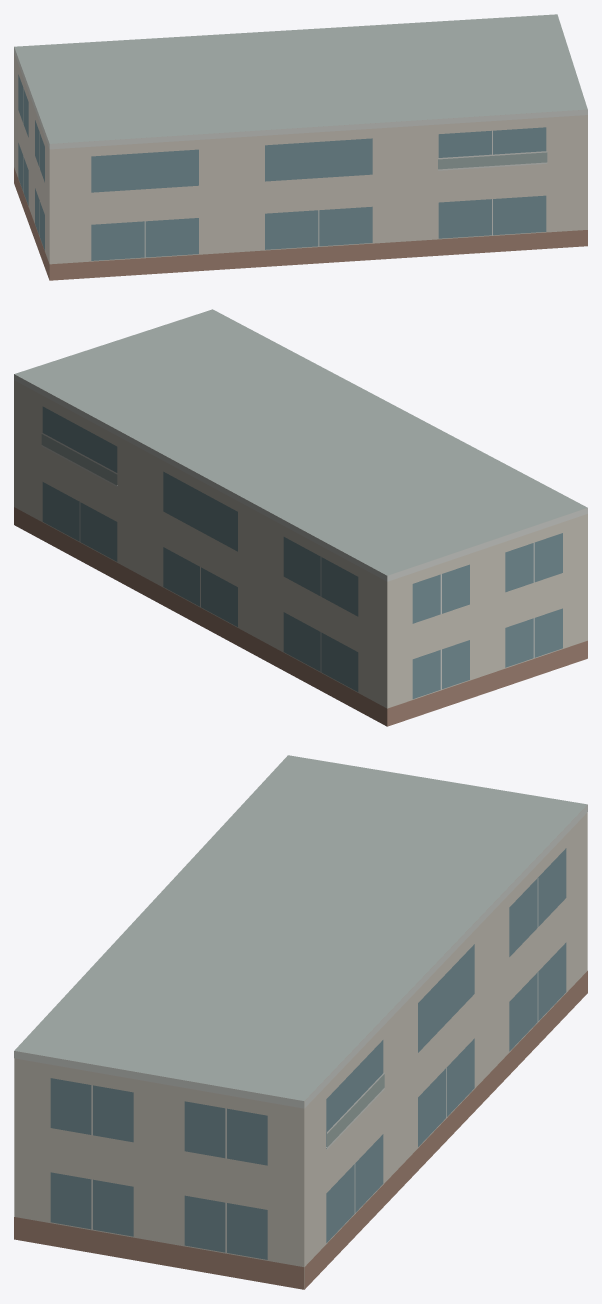
The model's file is survey-upis-32494104.glb.
3 renders of one model, top to bottom at view 1: azimuth 30°, elevation 25°; view 2: azimuth 150°, elevation 25°; view 3: azimuth 270°, elevation 25°, orthographic. The views are drawn at different scales.
Visible parts, largest first — view 1: survey-upis-32494104.tmp; view 2: survey-upis-32494104.tmp; view 3: survey-upis-32494104.tmp.
Part boxes in pixels (box(x1,y1,x2,y2)): survey-upis-32494104.tmp: box(14, 14, 587, 280); survey-upis-32494104.tmp: box(14, 309, 587, 726); survey-upis-32494104.tmp: box(14, 755, 587, 1289).
Bounding box in the file's own units: 24.01 × 6.1 × 16.83.
